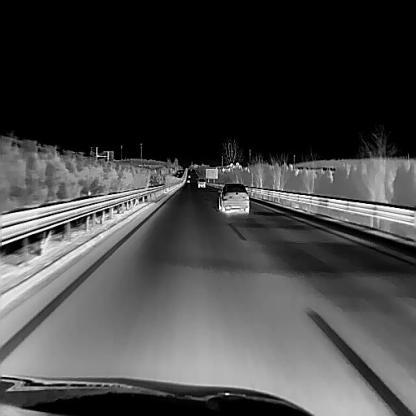car: (217, 181, 248, 213), (196, 176, 206, 187)
